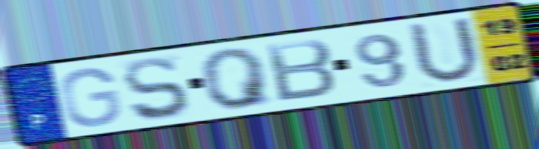9: (352, 31, 408, 89)
B: (262, 37, 340, 105)
G: (58, 66, 125, 129)
Q: (197, 45, 277, 112)
S: (120, 55, 194, 123)
U: (404, 15, 485, 86)
